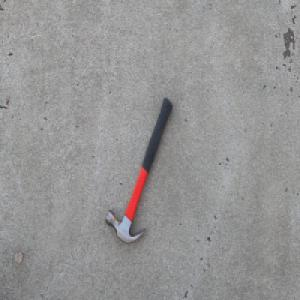Hammer: (104, 97, 172, 245)
